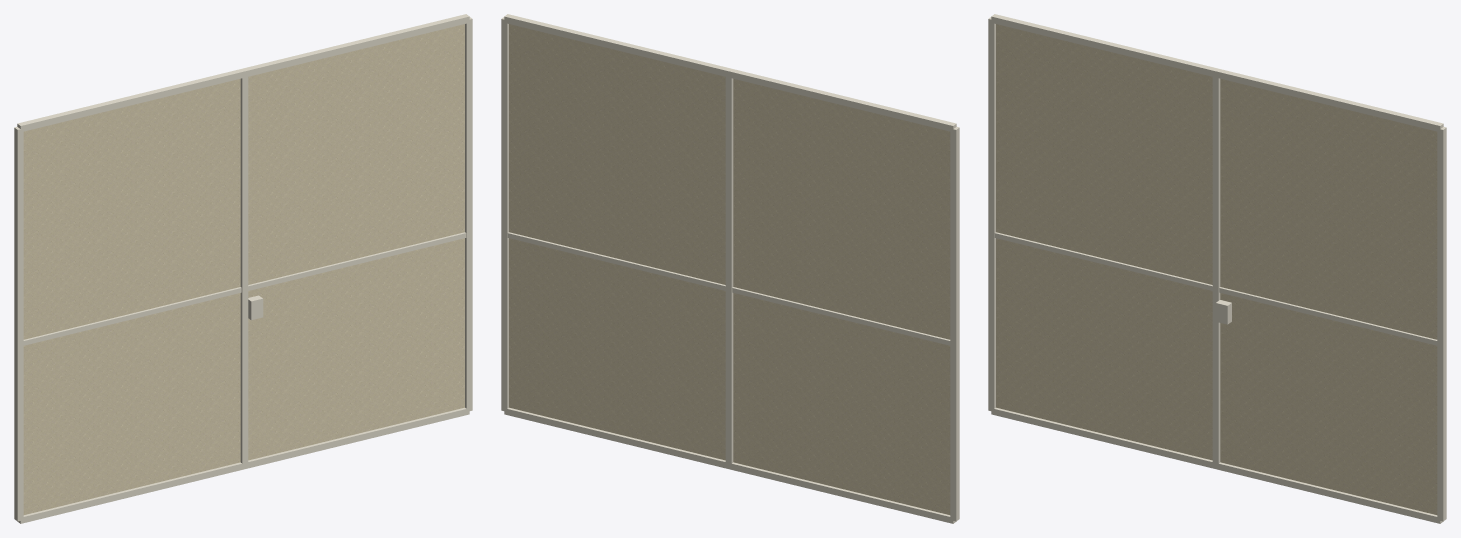
Rendered from security_mesh_grille.glb.
The picture shows the model from 3 angles, left to right: view 1: azimuth 30°, elevation 25°; view 2: azimuth 150°, elevation 25°; view 3: azimuth 330°, elevation 25°; orthographic projection.
Parts seen in each view (by area): view 1: security_mesh_grille; view 2: security_mesh_grille; view 3: security_mesh_grille.
Part boxes in pixels (box(x1,y1,x2,y2)): security_mesh_grille: box(14, 14, 472, 523); security_mesh_grille: box(501, 14, 959, 523); security_mesh_grille: box(988, 14, 1446, 523).
Size of the model in its own units: 3.04 by 2.54 by 0.075.
Materials: 2 (1 with a texture image).
